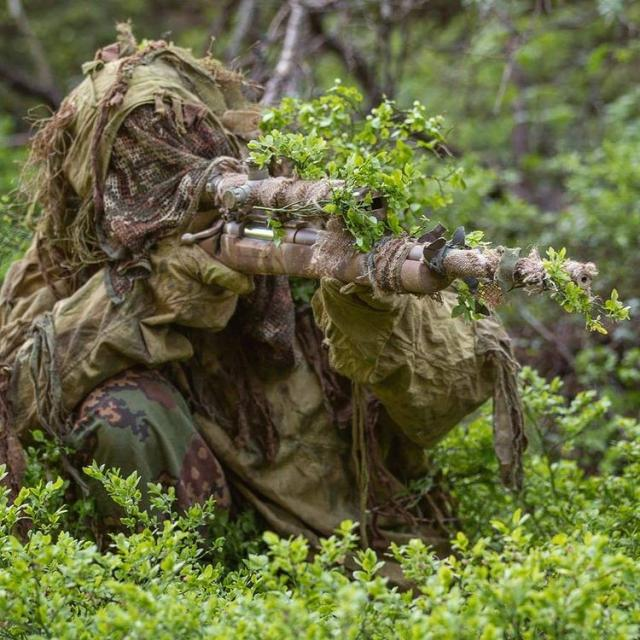Camouflage: (1, 18, 595, 593)
